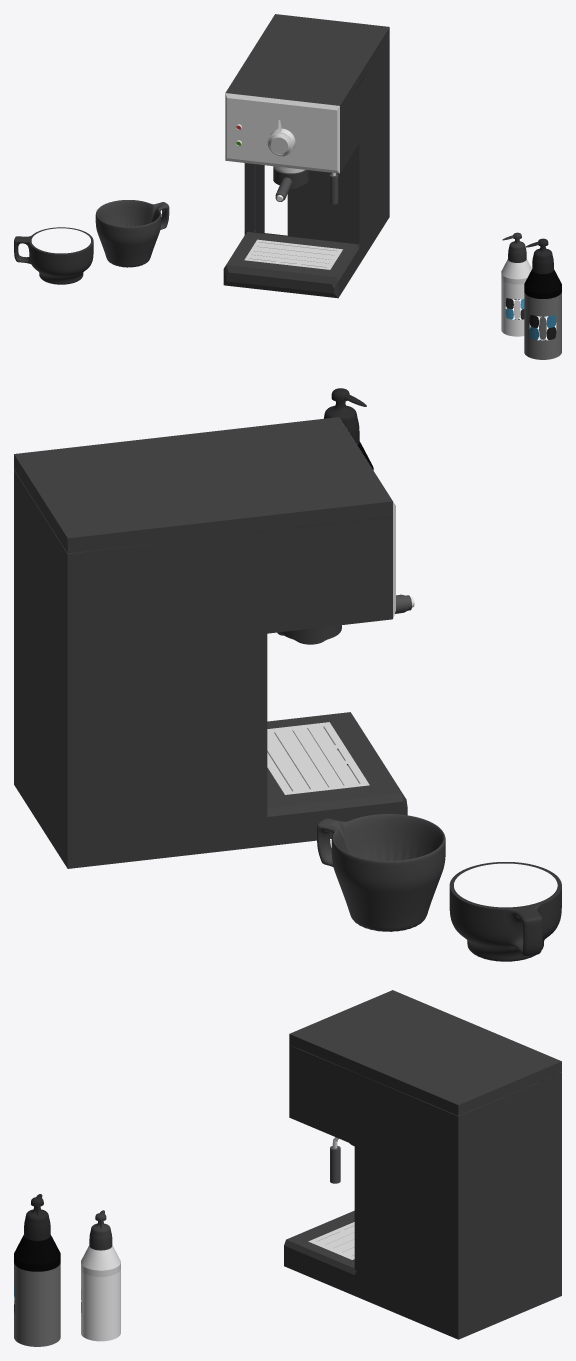
Rendered from countertopdecor.glb.
3 renders of one model, top to bottom at view 1: azimuth 30°, elevation 25°; view 2: azimuth 150°, elevation 25°; view 3: azimuth 270°, elevation 25°, orthographic. The views are drawn at different scales.
Visible parts, largest first — view 1: Coffee Machine, Cup, dishwashing liquid, dishwashing liquid.001, Coffee Cup; view 2: Coffee Machine, Cup, Coffee Cup, dishwashing liquid; view 3: Coffee Machine, dishwashing liquid, dishwashing liquid.001.
Boxes of the visible parts, bbox=[...] form: Coffee Machine: bbox=[223, 14, 389, 298]; Cup: bbox=[95, 200, 169, 267]; dishwashing liquid: bbox=[524, 238, 561, 359]; dishwashing liquid.001: bbox=[501, 232, 531, 336]; Coffee Cup: bbox=[14, 227, 93, 284]; Coffee Machine: bbox=[14, 417, 414, 868]; Cup: bbox=[317, 814, 445, 931]; Coffee Cup: bbox=[449, 862, 561, 961]; dishwashing liquid: bbox=[324, 388, 373, 470]; Coffee Machine: bbox=[284, 990, 561, 1339]; dishwashing liquid: bbox=[14, 1194, 60, 1346]; dishwashing liquid.001: bbox=[81, 1210, 120, 1341].
Size of the model in its own units: 32.8 by 18.11 by 37.12.
Materials: 24 (1 with a texture image).
